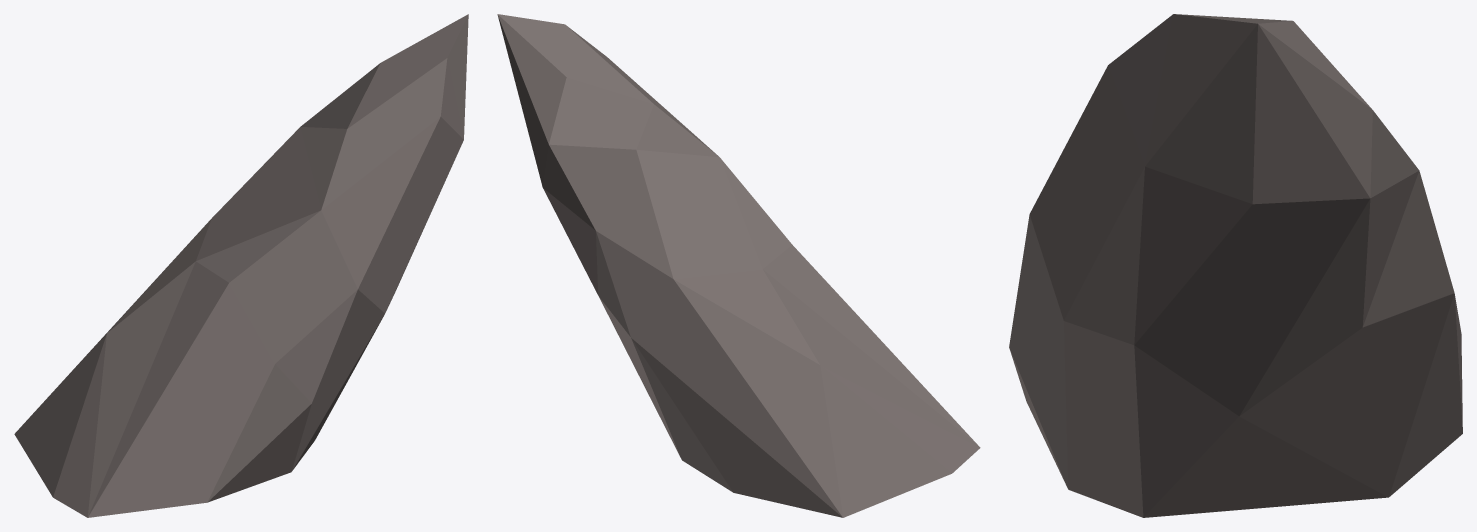
File: Rock_Sharp_m_13 6.fbx
3 renders of one model, left to right at view 1: azimuth 30°, elevation 25°; view 2: azimuth 150°, elevation 25°; view 3: azimuth 270°, elevation 25°, orthographic. The views are drawn at different scales.
Visible parts, largest first — view 1: Rock_Sharp_m_13; view 2: Rock_Sharp_m_13; view 3: Rock_Sharp_m_13.
Part boxes in pixels (x1=…): Rock_Sharp_m_13: x1=14, y1=14, x2=468, y2=517; Rock_Sharp_m_13: x1=497, y1=14, x2=980, y2=517; Rock_Sharp_m_13: x1=1009, y1=14, x2=1462, y2=517.
Bounding box in the file's own units: 191 × 154 × 94.05.
